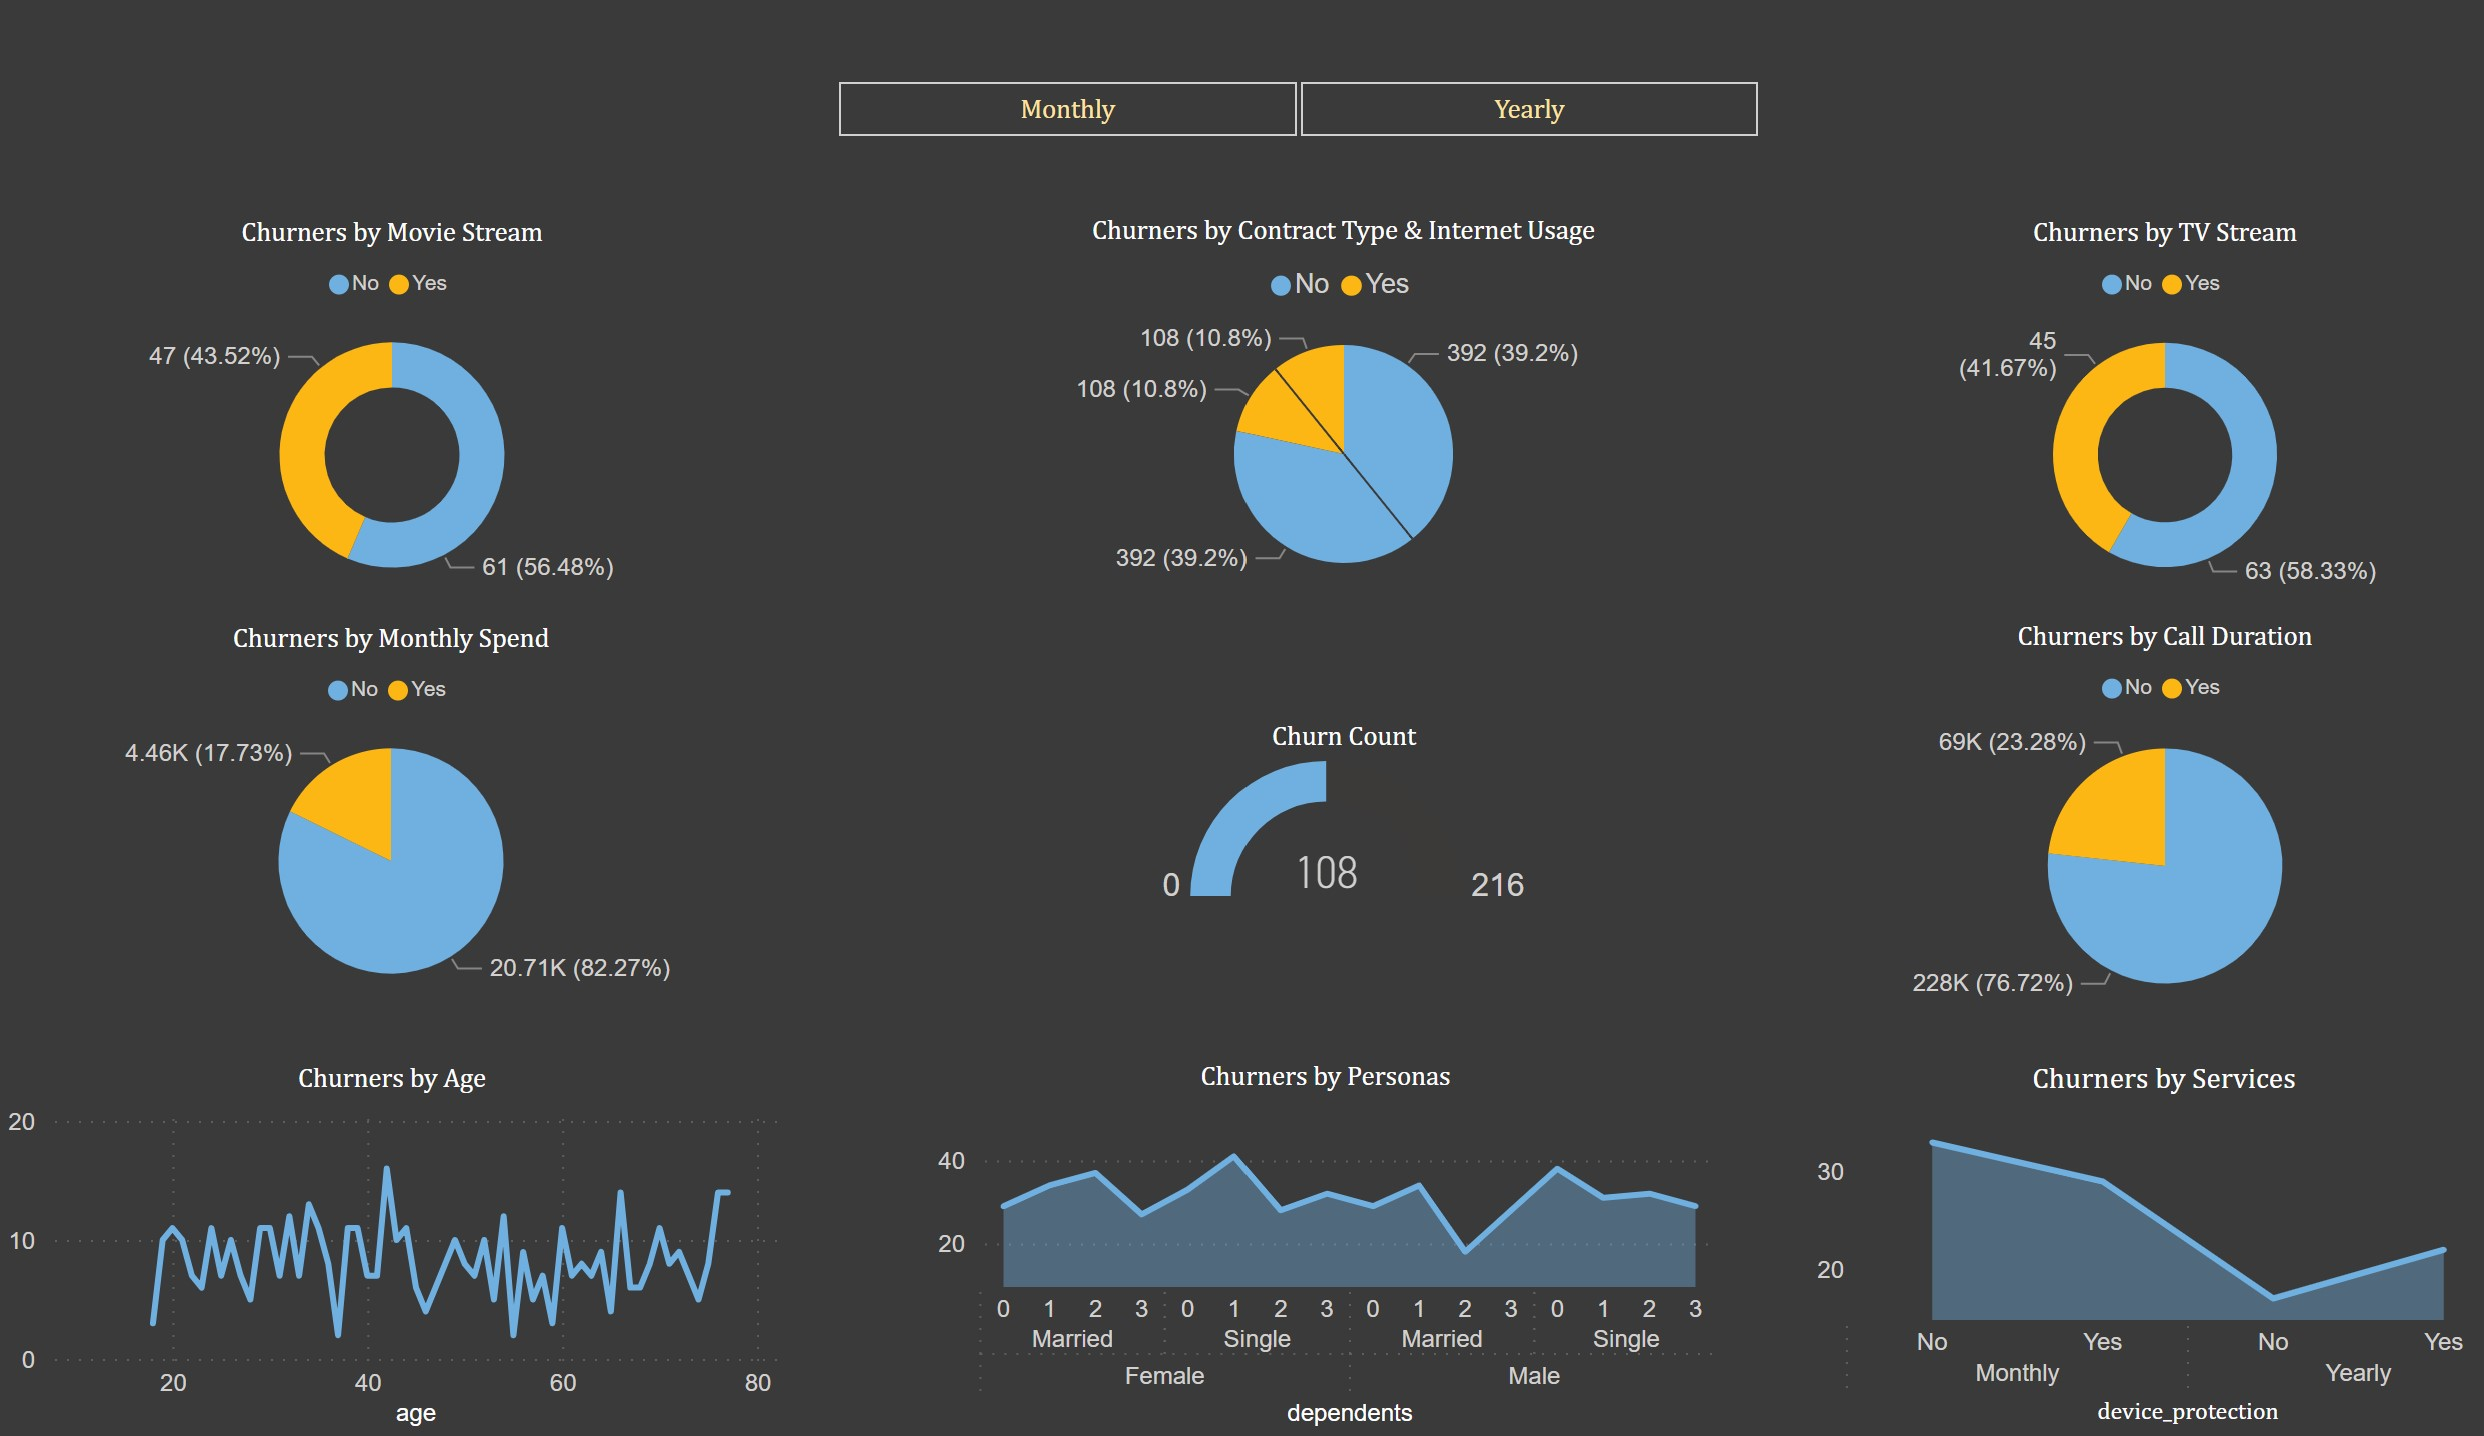

Layout of this report page (visuals, bound fields, positions):
{"tool":"powerbi","page":{"name":"Page 1","canvas":[1280,720],"ordinal":0},"visuals":[{"type":"lineChart","title":"Churners by Age","fields":{"Category":["telecom_churn_dataset.age"],"Y":["CountNonNull(telecom_churn_dataset.churn_status)"]},"box":[0,532.5,395,187.5],"z":0},{"type":"stackedAreaChart","title":"Churners by Personas","fields":{"Category":["telecom_churn_dataset.gender","telecom_churn_dataset.marital_status","telecom_churn_dataset.dependents"],"Y":["CountNonNull(telecom_churn_dataset.churn_status)"]},"box":[465.1,532.3,397.9,188],"z":1000},{"type":"areaChart","title":"Churners by Services","fields":{"Category":["telecom_churn_data_services.contract_type","telecom_churn_data_services.device_protection","telecom_churn_data_services.multiple_lines","telecom_churn_data_services.online_backup","telecom_churn_data_services.online_security","telecom_churn_data_services.phone_service","telecom_churn_data_services.tech_support"],"Y":["CountNonNull(telecom_churn_data_services.churn_count)"]},"box":[903.8,531.9,358.4,187],"z":2000},{"type":"gauge","title":"Churn Count","fields":{"Y":["CountNonNull(telecom_churn_data_count.churn_count)"]},"box":[544,362,258,98],"z":3000},{"type":"donutChart","title":"Churners by Movie Stream","fields":{"Category":["telecom_churn_data_services.streaming_movies"],"Y":["Sum(telecom_churn_data_services.churn_count)"]},"box":[31.4,110,332.9,197.1],"z":4000},{"type":"donutChart","title":"Churners by TV Stream","fields":{"Category":["telecom_churn_data_services.streaming_tv","telecom_churn_data_services.streaming_movies"],"Y":["Sum(telecom_churn_data_services.churn_count)"]},"box":[926.8,109.7,313.5,197.5],"z":5000},{"type":"pieChart","title":"Churners by Monthly Spend","fields":{"Y":["Sum(telecom_churn_dataset.monthly_charges)"],"Category":["telecom_churn_dataset.churn_status"]},"box":[30,312.9,334.3,197.1],"z":6000},{"type":"pieChart","title":"Churners by Call Duration","fields":{"Y":["Sum(telecom_churn_dataset.call_duration_minutes)"],"Category":["telecom_churn_dataset.churn_status"]},"box":[920.6,312.4,325,203.8],"z":7000},{"type":"pieChart","title":"Churners by Contract Type & Internet Usage","fields":{"Category":["telecom_churn_dataset.churn_status"],"Y":["CountNonNull(telecom_churn_dataset.contract_type)","CountNonNull(telecom_churn_dataset.internet_service)"]},"box":[505.7,108.6,334.3,195.7],"z":8000},{"type":"slicer","fields":{"Values":["telecom_churn_data_count.contract_type"]},"box":[395.1,35.7,509,38.4],"z":9000}]}

Visuals, with their boxes in screenshot pixels (x1, y1, x2, y2), scaled from the page's 1280x720 canvas onto the 2484x1436 screenshot:
"Churners by Age" lineChart: bbox(0, 1062, 767, 1435)
"Churners by Personas" stackedAreaChart: bbox(903, 1062, 1675, 1435)
"Churners by Services" areaChart: bbox(1754, 1061, 2449, 1434)
"Churn Count" gauge: bbox(1056, 722, 1556, 917)
"Churners by Movie Stream" donutChart: bbox(61, 219, 707, 612)
"Churners by TV Stream" donutChart: bbox(1799, 219, 2407, 613)
"Churners by Monthly Spend" pieChart: bbox(58, 624, 707, 1017)
"Churners by Call Duration" pieChart: bbox(1787, 623, 2417, 1030)
"Churners by Contract Type & Internet Usage" pieChart: bbox(981, 217, 1630, 607)
slicer - telecom_churn_data_count.contract_type: bbox(767, 71, 1755, 148)
